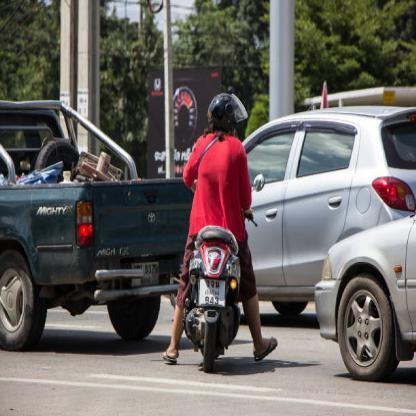Motorcycle: (183, 223, 245, 370)
